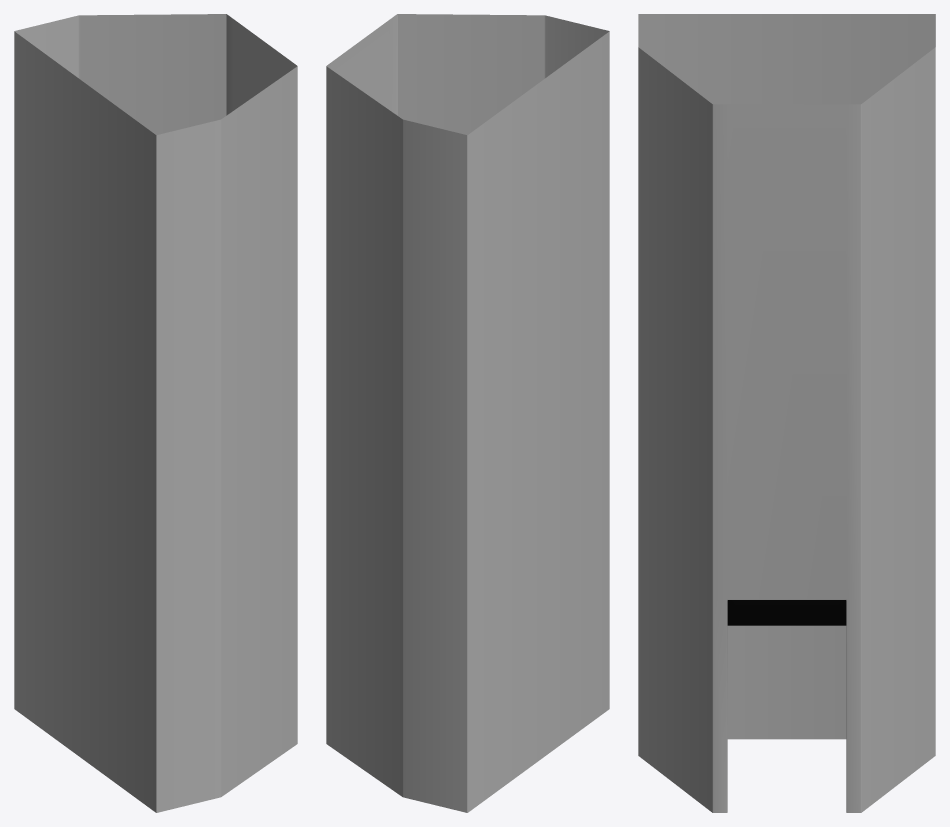
The model's file is 106_Cell.fbx.
3 renders of one model, left to right at view 1: azimuth 30°, elevation 25°; view 2: azimuth 150°, elevation 25°; view 3: azimuth 270°, elevation 25°, orthographic. The views are drawn at different scales.
Parts seen in each view (by area): view 1: Cell; view 2: Cell; view 3: Cell, Door.
Part boxes in pixels (x1,y1,x2,y2): Cell: (14,14,297,812); Cell: (326,14,609,812); Cell: (638,14,935,812); Door: (727,600,846,625).
Bounding box in the file's own units: 2.73 × 10 × 3.8.
